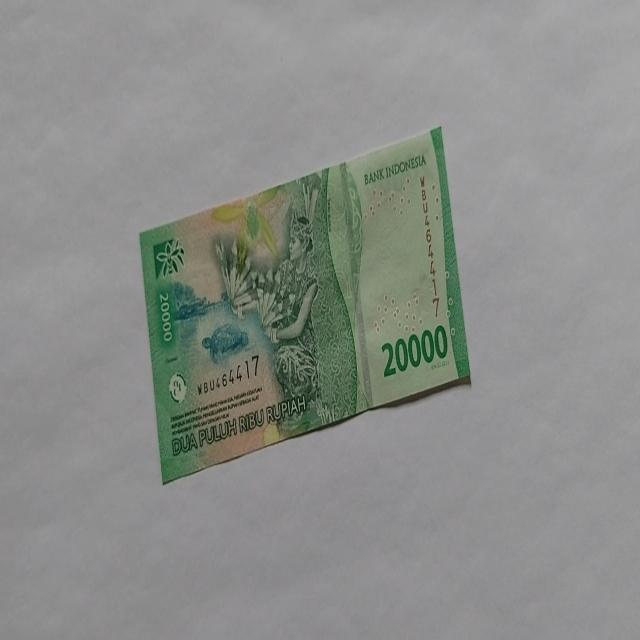dua puluh ribu rupiah: (138, 124, 472, 484)
